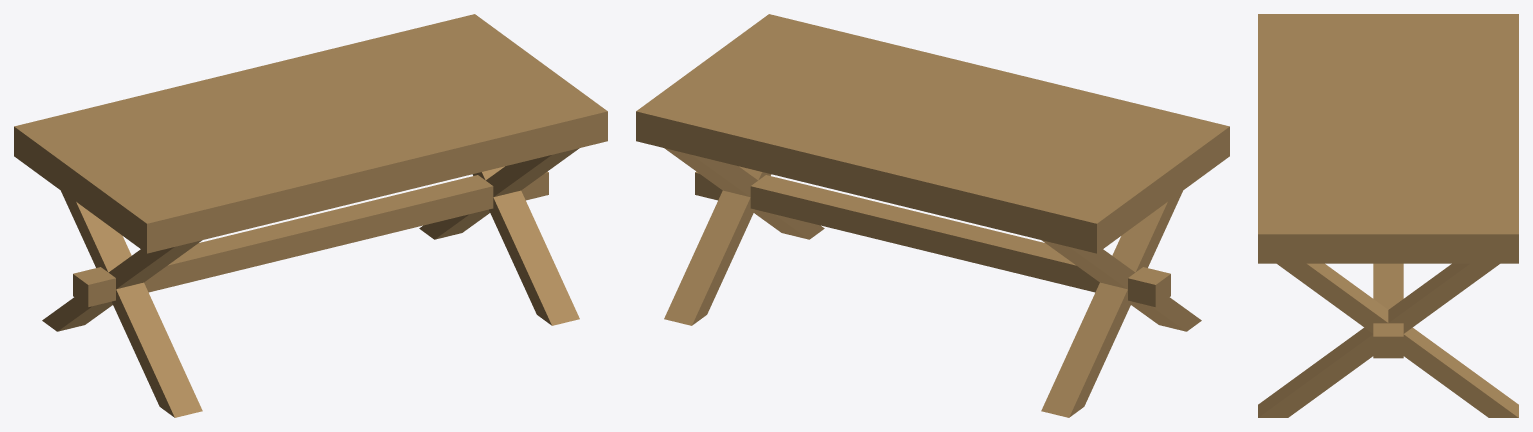
The model's file is trestle_table.glb.
The picture shows the model from 3 angles, left to right: view 1: azimuth 30°, elevation 25°; view 2: azimuth 150°, elevation 25°; view 3: azimuth 270°, elevation 25°; orthographic projection. The views are drawn at different scales.
Visible parts, largest first — view 1: trestle_table; view 2: trestle_table; view 3: trestle_table.
Part boxes in pixels (left/top/right/bottom): trestle_table: left=14, top=14, right=607, bottom=417; trestle_table: left=636, top=14, right=1229, bottom=417; trestle_table: left=1258, top=14, right=1518, bottom=417.
Size of the model in its own units: 1.8 by 0.75 by 0.9.
